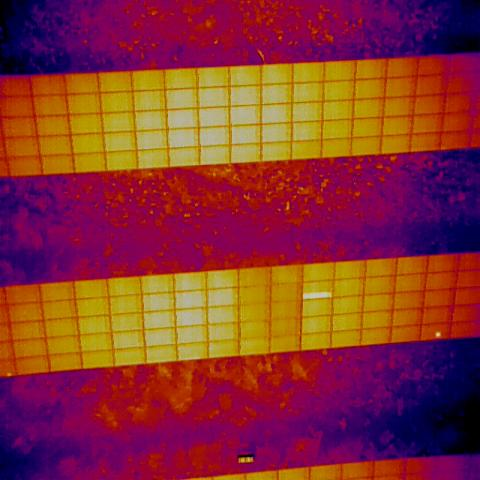fault: (302, 292, 333, 298), (435, 332, 441, 340)
